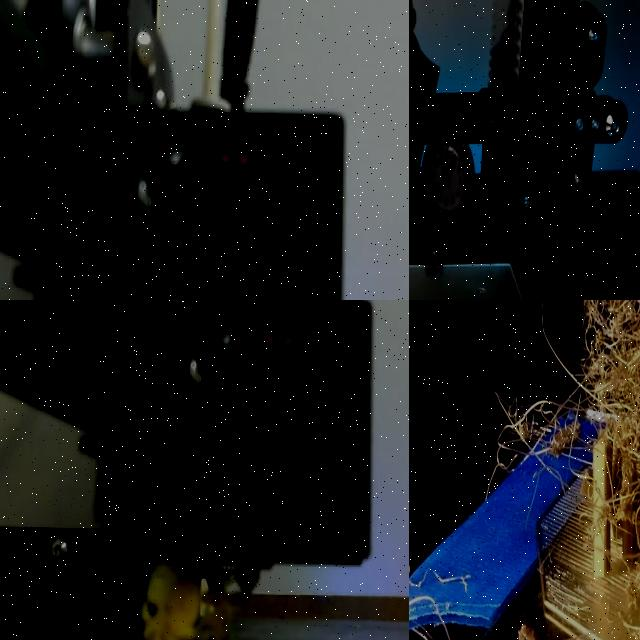spaghetti: (483, 300, 640, 640), (409, 528, 529, 640), (131, 555, 251, 640)
